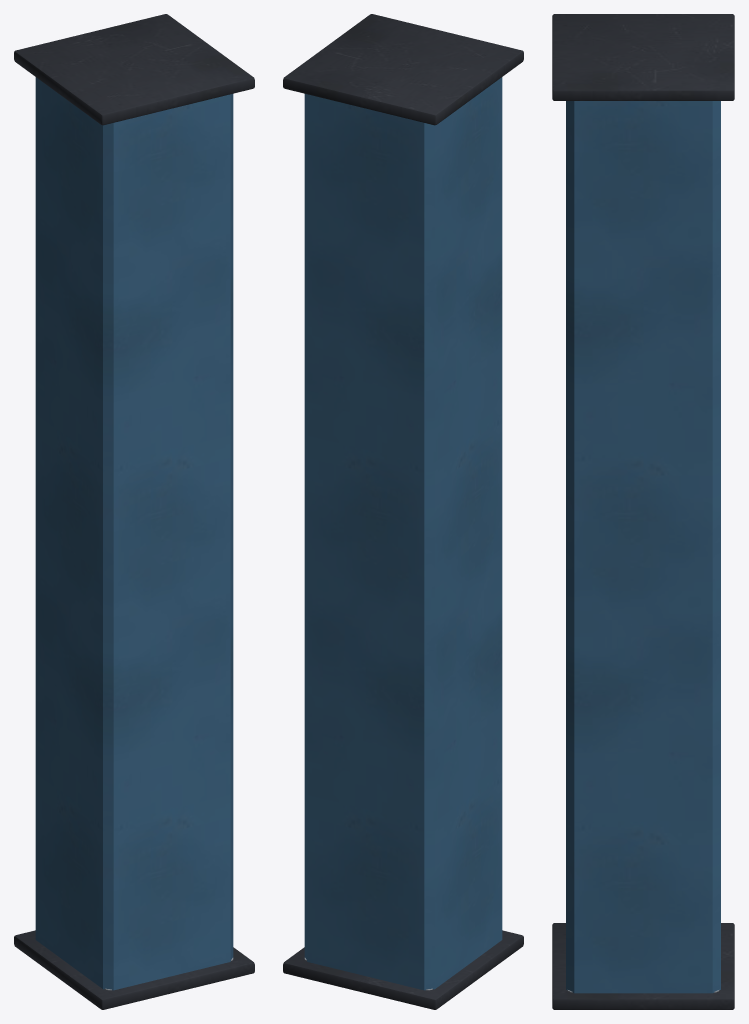
The model's file is metal_column_short.glb.
The picture shows the model from 3 angles, left to right: view 1: azimuth 30°, elevation 25°; view 2: azimuth 150°, elevation 25°; view 3: azimuth 270°, elevation 25°; orthographic projection. The views are drawn at different scales.
Visible parts, largest first — view 1: Body; view 2: Body; view 3: Body.
Boxes of the visible parts, left/top/right/bottom form: Body: left=14, top=14, right=254, bottom=1009; Body: left=283, top=14, right=523, bottom=1009; Body: left=552, top=14, right=734, bottom=1009.
Bounding box in the file's own units: 0.224 × 1.25 × 0.224.
3 materials, 3 textured.
